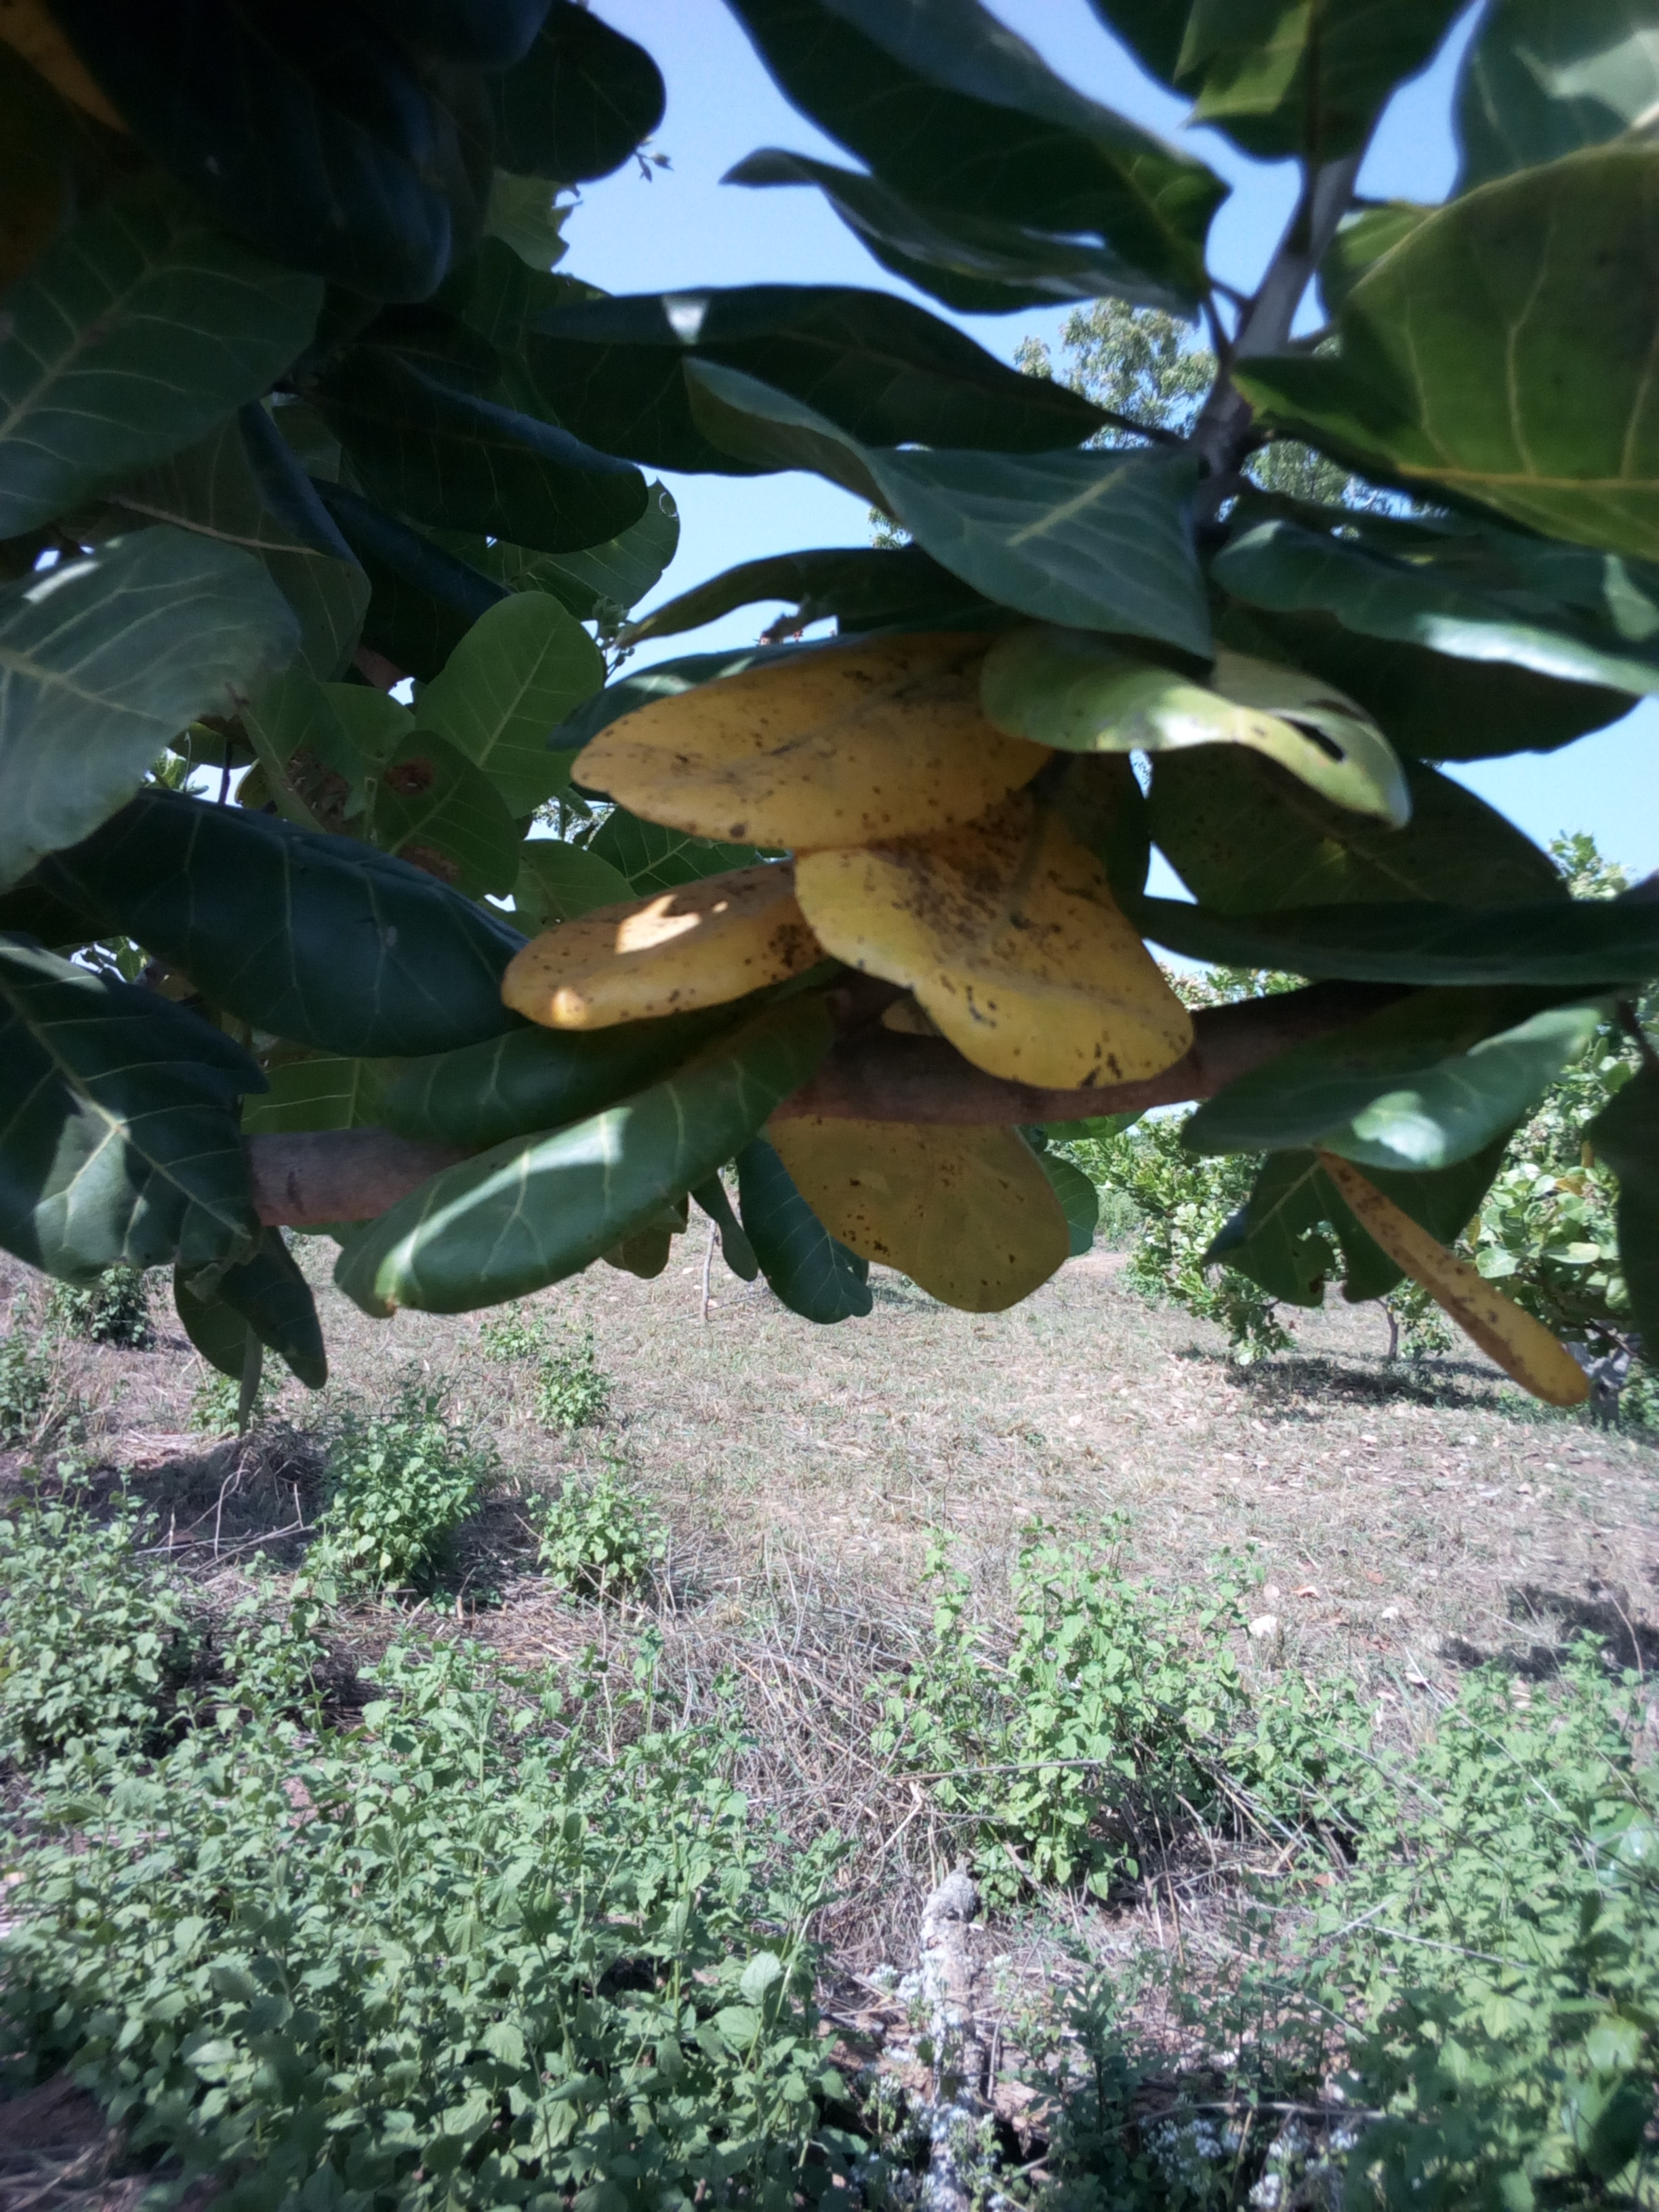Anthracnose: (596, 709, 1080, 1028), (793, 1123, 1053, 1310)
